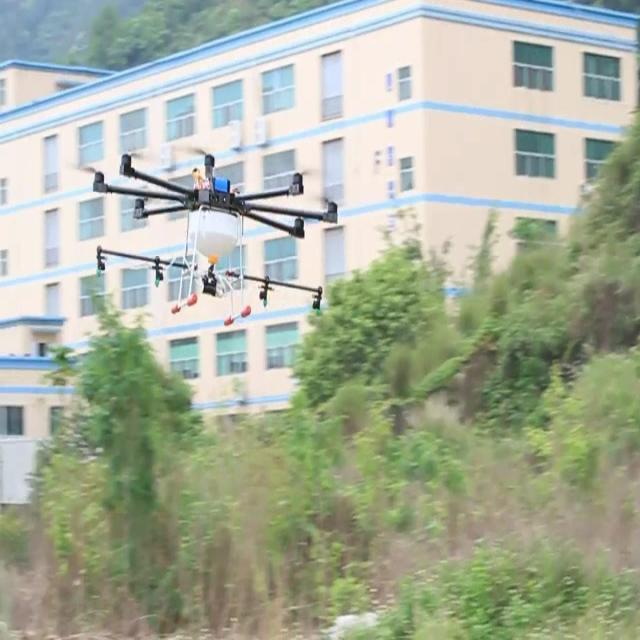drone: (87, 146, 343, 330)
